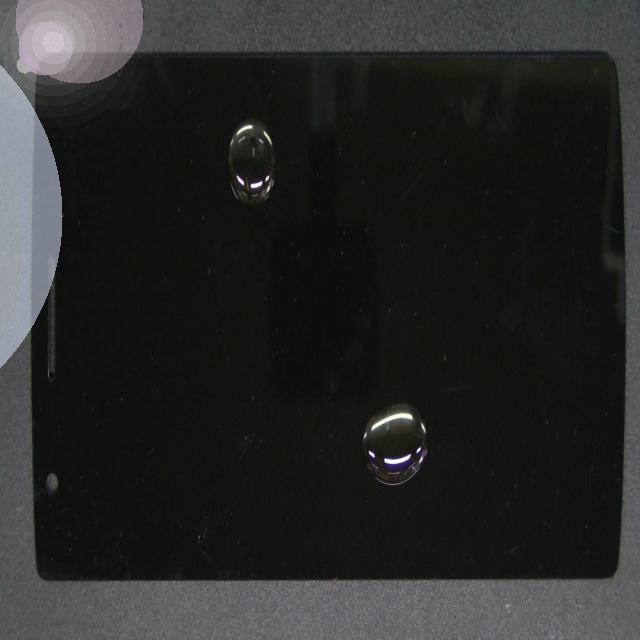oil: (203, 200, 566, 612), (156, 92, 397, 204)
